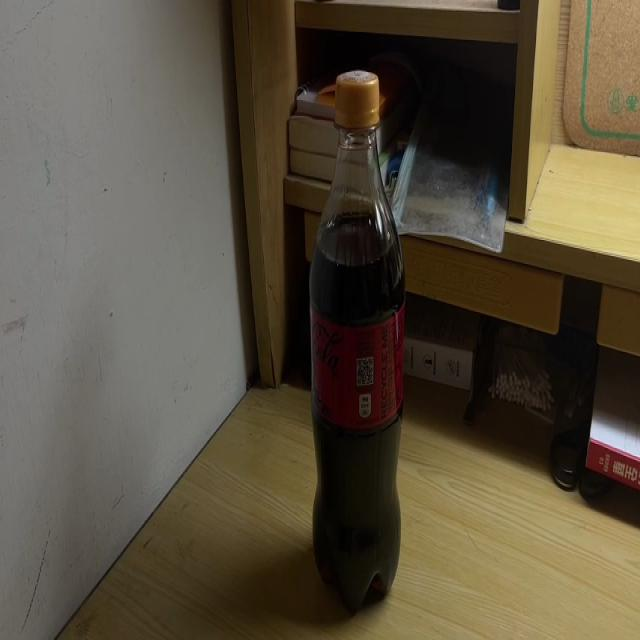Coca-Cola: (309, 68, 402, 616)
